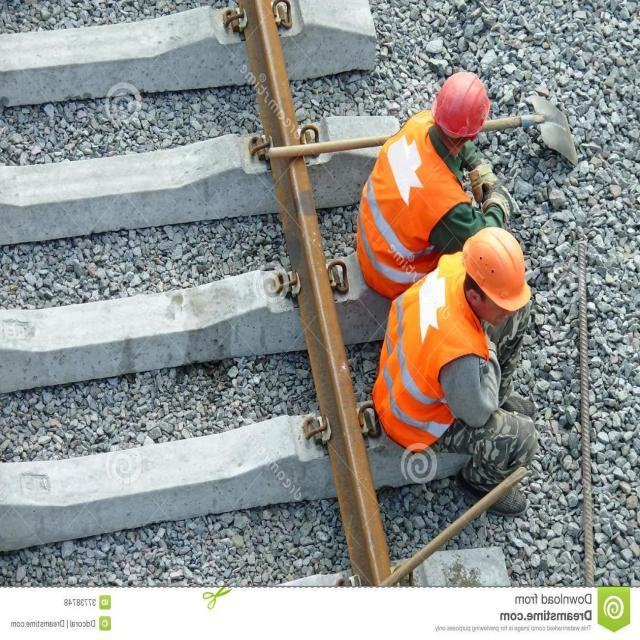reflective_jacket: (375, 264, 476, 425), (357, 113, 436, 277)
safety_helmet: (462, 224, 529, 310), (430, 69, 490, 139)
